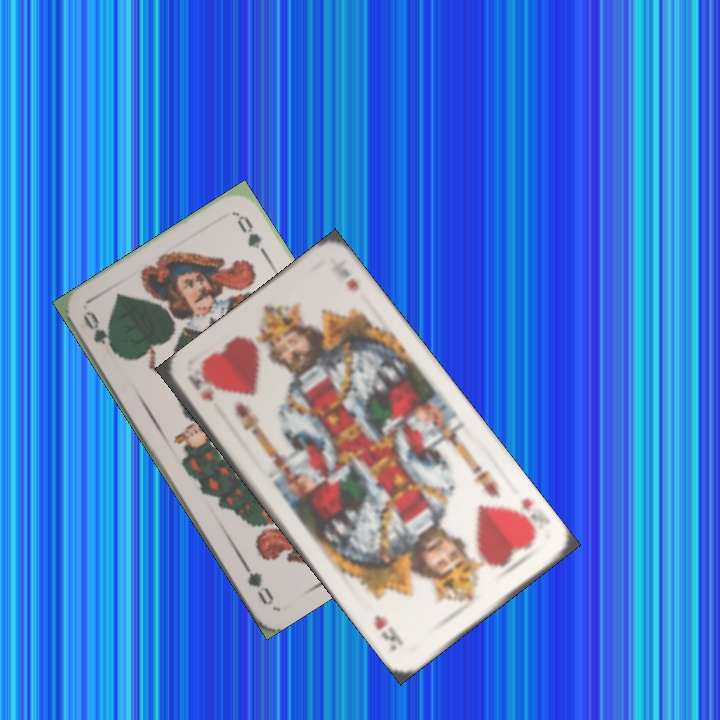GO: (79, 307, 122, 359)
HK: (510, 493, 543, 541), (184, 371, 216, 404)
